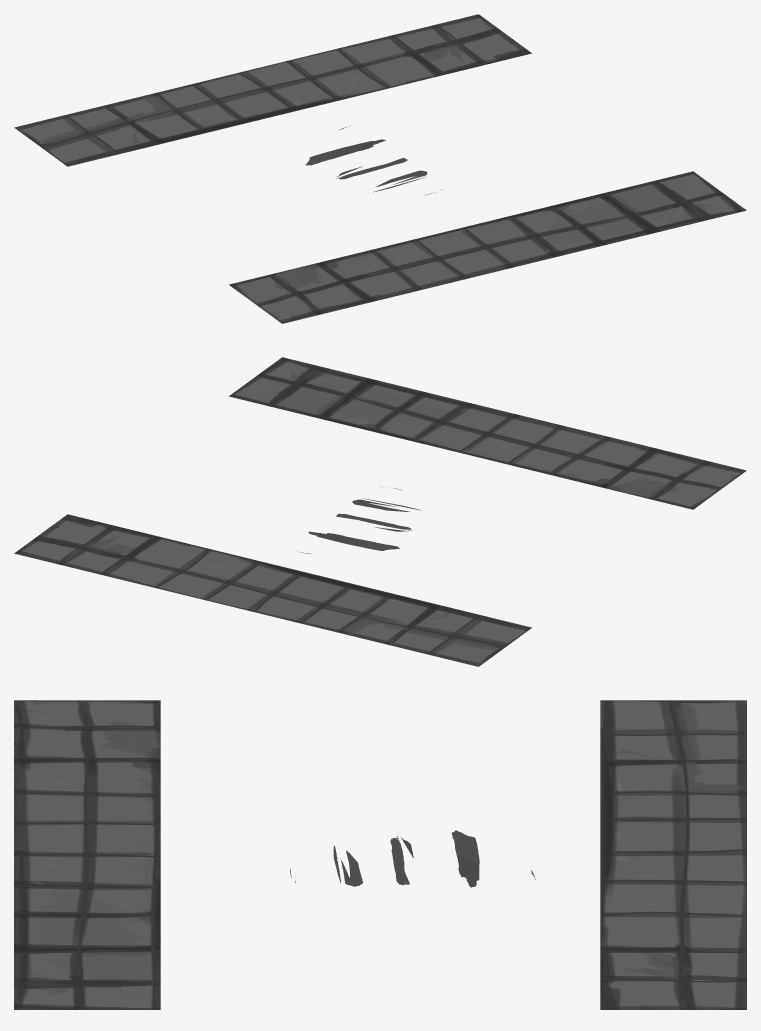
Rendered from ulica2.fbx.
3 renders of one model, top to bottom at view 1: azimuth 30°, elevation 25°; view 2: azimuth 150°, elevation 25°; view 3: azimuth 270°, elevation 25°, orthographic. The views are drawn at different scales.
Visible parts, largest first — view 1: Plane; view 2: Plane; view 3: Plane.
Boxes of the visible parts, x1,y1,x2,y2 form: Plane: [14, 14, 746, 323]; Plane: [14, 357, 746, 666]; Plane: [14, 700, 746, 1009].
Size of the model in its own units: 1000 by 10 by 1000.
